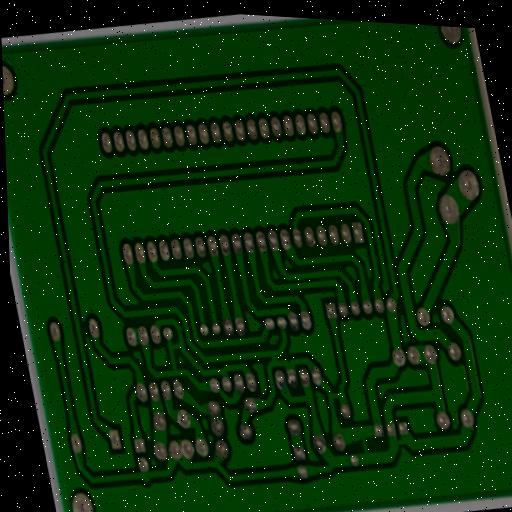short_circuit: (325, 380, 349, 414), (388, 425, 413, 456), (164, 330, 188, 359), (354, 431, 376, 459), (264, 344, 286, 372)
